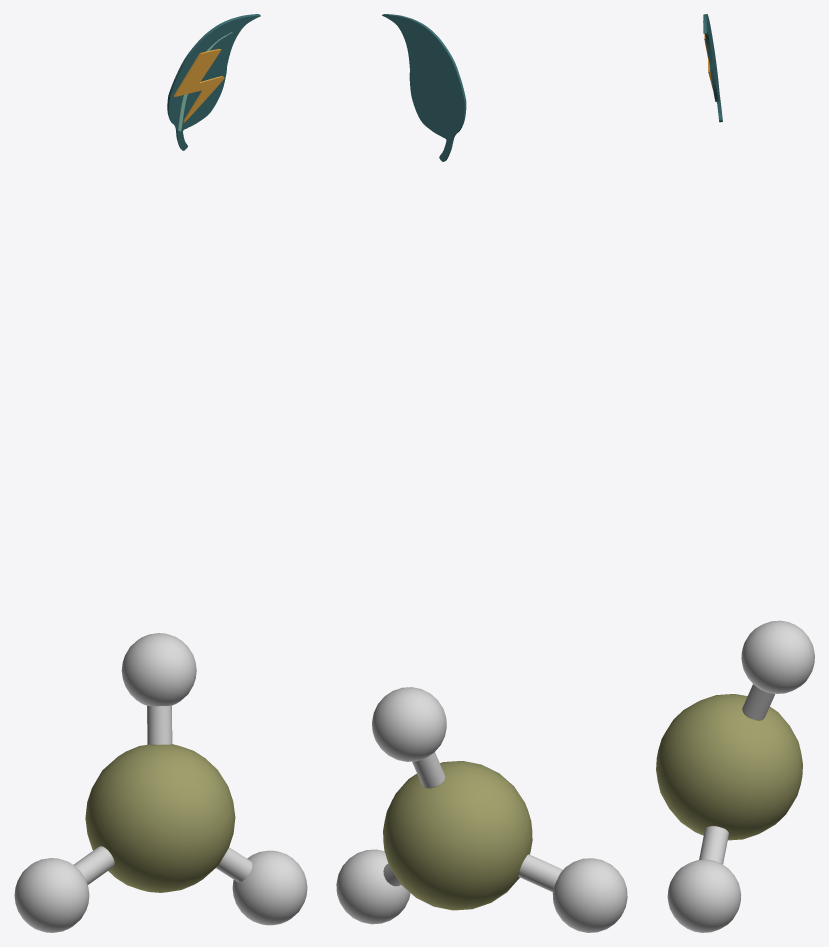
Rendered from trig.glb.
The picture shows the model from 3 angles, left to right: view 1: azimuth 30°, elevation 25°; view 2: azimuth 150°, elevation 25°; view 3: azimuth 270°, elevation 25°; orthographic projection.
Parts seen in each view (by area): view 1: bf3_trig-plana, path182, path186; view 2: bf3_trig-plana, path182; view 3: bf3_trig-plana, path182.
Boxes of the visible parts, left/top/right/bottom form: bf3_trig-plana: left=14, top=633, right=307, bottom=932; path182: left=167, top=14, right=260, bottom=150; path186: left=173, top=49, right=224, bottom=122; bf3_trig-plana: left=336, top=687, right=627, bottom=932; path182: left=382, top=14, right=466, bottom=161; bf3_trig-plana: left=656, top=620, right=814, bottom=932; path182: left=703, top=14, right=722, bottom=122.
Size of the model in its own units: 1.91 by 5.9 by 0.9507.
